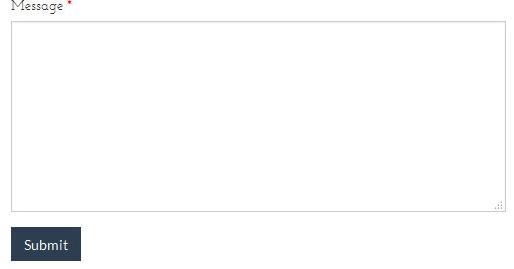button: (9, 226, 84, 261)
field: (7, 19, 508, 213)
